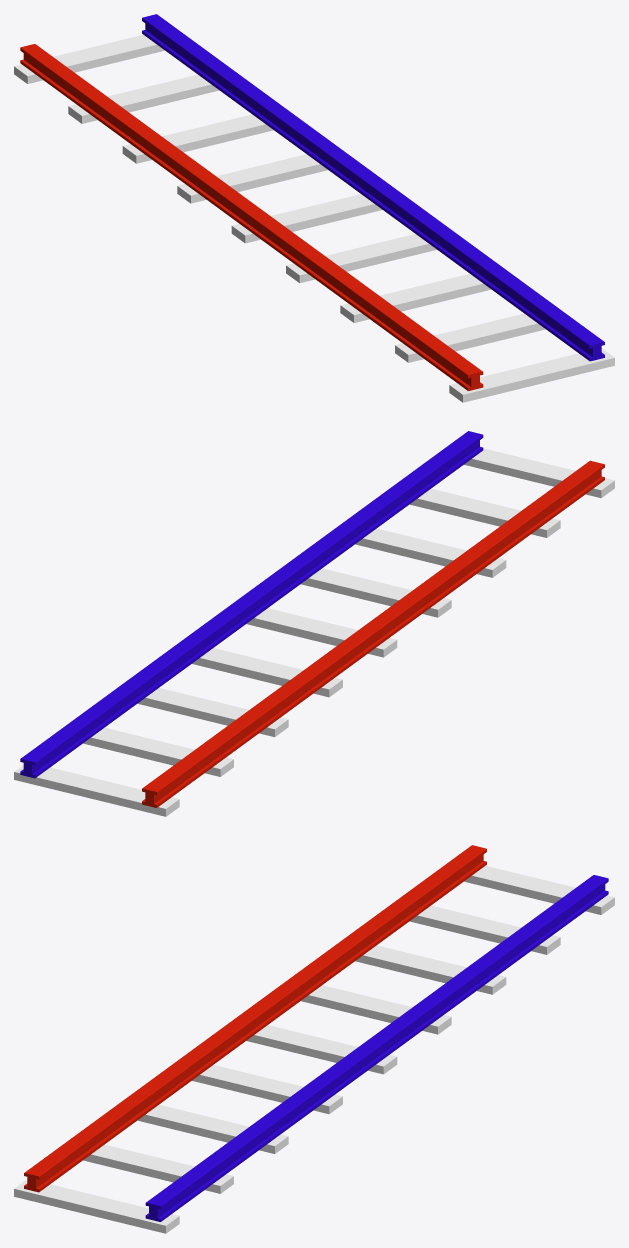
The model's file is senro.fbx.
The picture shows the model from 3 angles, top to bottom: view 1: azimuth 30°, elevation 25°; view 2: azimuth 150°, elevation 25°; view 3: azimuth 330°, elevation 25°; orthographic projection.
Parts seen in each view (by area): view 1: Cube.001, 立方体.001, 立方体; view 2: Cube.001, 立方体, 立方体.001; view 3: Cube.001, 立方体, 立方体.001.
Part boxes in pixels (left/top/right/bottom): Cube.001: left=14, top=34, right=614, bottom=402; 立方体.001: left=20, top=44, right=483, bottom=390; 立方体: left=142, top=14, right=604, bottom=361; Cube.001: left=14, top=448, right=614, bottom=816; 立方体: left=20, top=431, right=483, bottom=778; 立方体.001: left=142, top=460, right=604, bottom=807; Cube.001: left=14, top=865, right=614, bottom=1233; 立方体: left=145, top=875, right=608, bottom=1221; 立方体.001: left=24, top=845, right=486, bottom=1192.
Bounding box in the file's own units: 200 × 30.13 × 1025.
